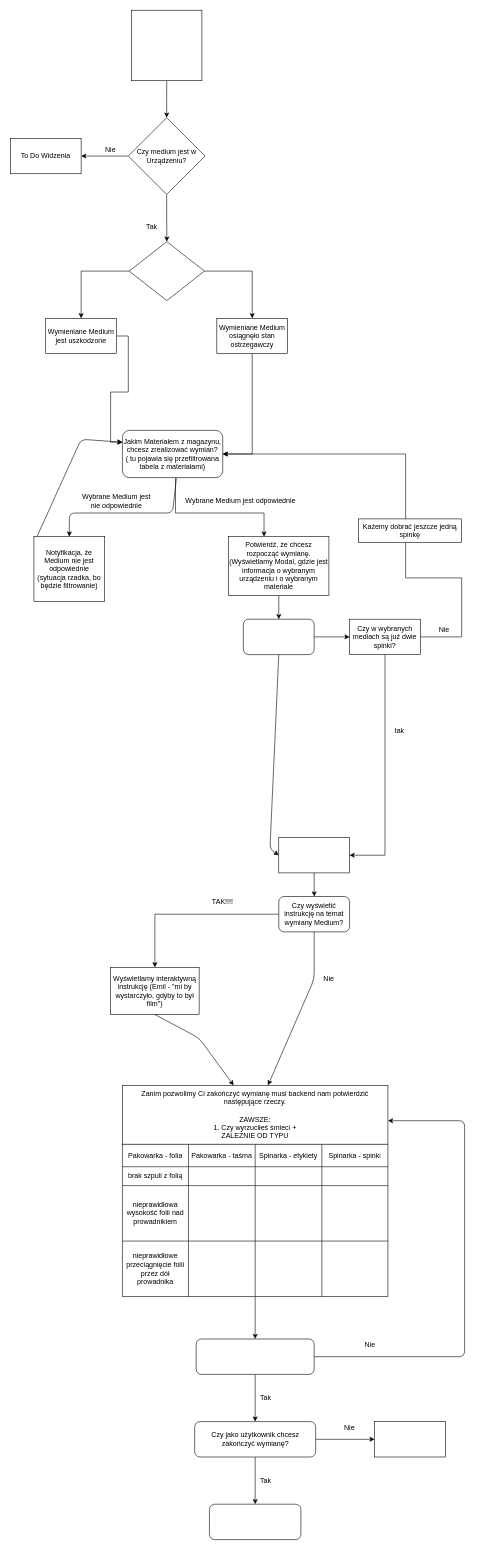
The diagram is 480 pixels wide and 1551 high, and some of its shapes have lost their labels. The shapes that lost their labels are listed below. From the top down, each one's centre as x and y in pixels, then its label:
At point (166, 45): "CHCĘ WYMIENIĆ MEDIUM, (np Spinki w Pakowarce3)".
At point (166, 271): "Dlaczego chcesz wymienić medium?".
At point (278, 637): "Czy wymieniane medium to spinki w spinarce?".
At point (314, 855): "Zatrzymujemy maszynę".
At point (255, 1356): "Czy backend potwierdza, że możemy zakończyć wymianę?".
At point (409, 1439): "Maszyna wstrzymana na całe wieki?".
At point (255, 1522): "Uruchamiamy maszynę".
